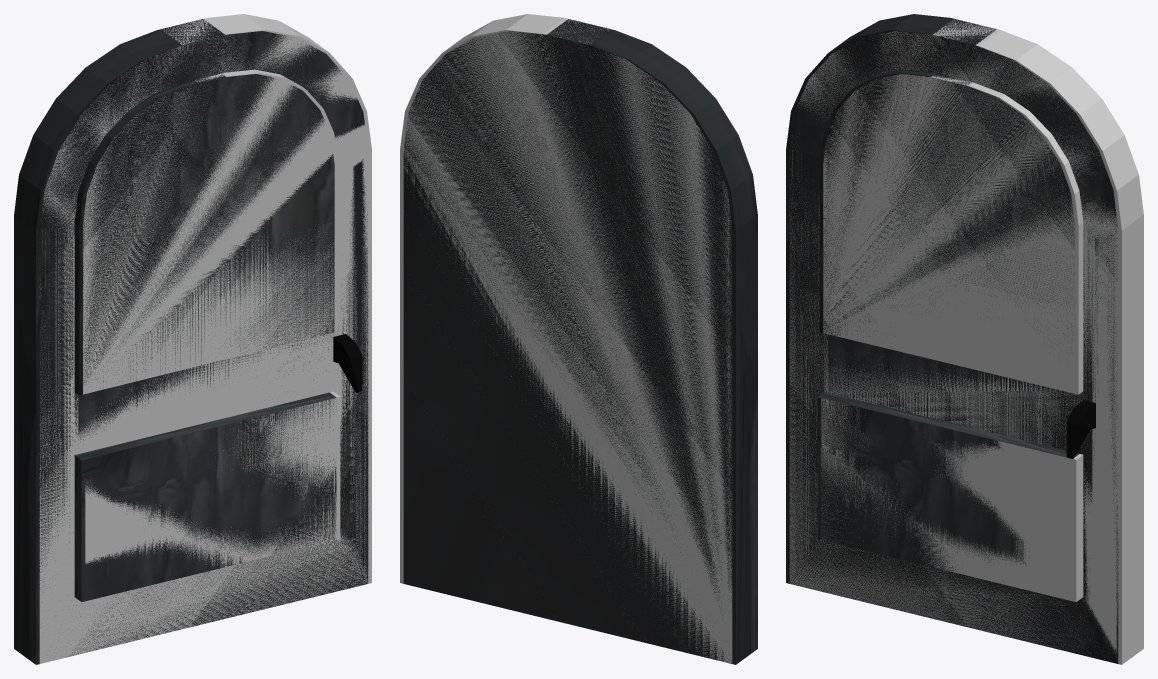
The model's file is Doors.fbx.
The picture shows the model from 3 angles, left to right: view 1: azimuth 30°, elevation 25°; view 2: azimuth 150°, elevation 25°; view 3: azimuth 330°, elevation 25°; orthographic projection.
Visible parts, largest first — view 1: Cube, Cube.001, Cube.002; view 2: Cube, Cube.001; view 3: Cube.001, Cube.
Part boxes in pixels (box(x1,y1,x2,y2)): Cube: box(14, 19, 368, 664); Cube.001: box(39, 14, 371, 663); Cube.002: box(333, 337, 362, 392); Cube: box(403, 19, 757, 664); Cube.001: box(400, 14, 732, 663); Cube.001: box(789, 19, 1143, 664); Cube: box(786, 14, 1118, 663).
Bounding box in the file's own units: 202 × 336 × 44.99.
